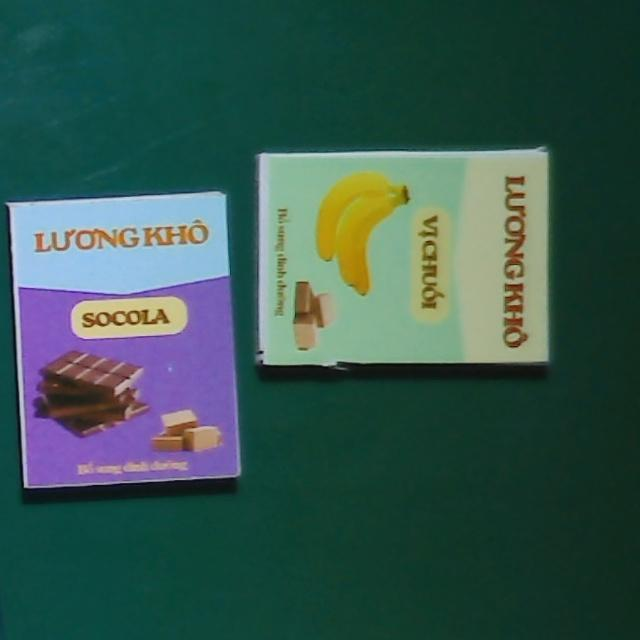chuoi: (257, 147, 550, 365)
socola: (6, 190, 242, 493)
